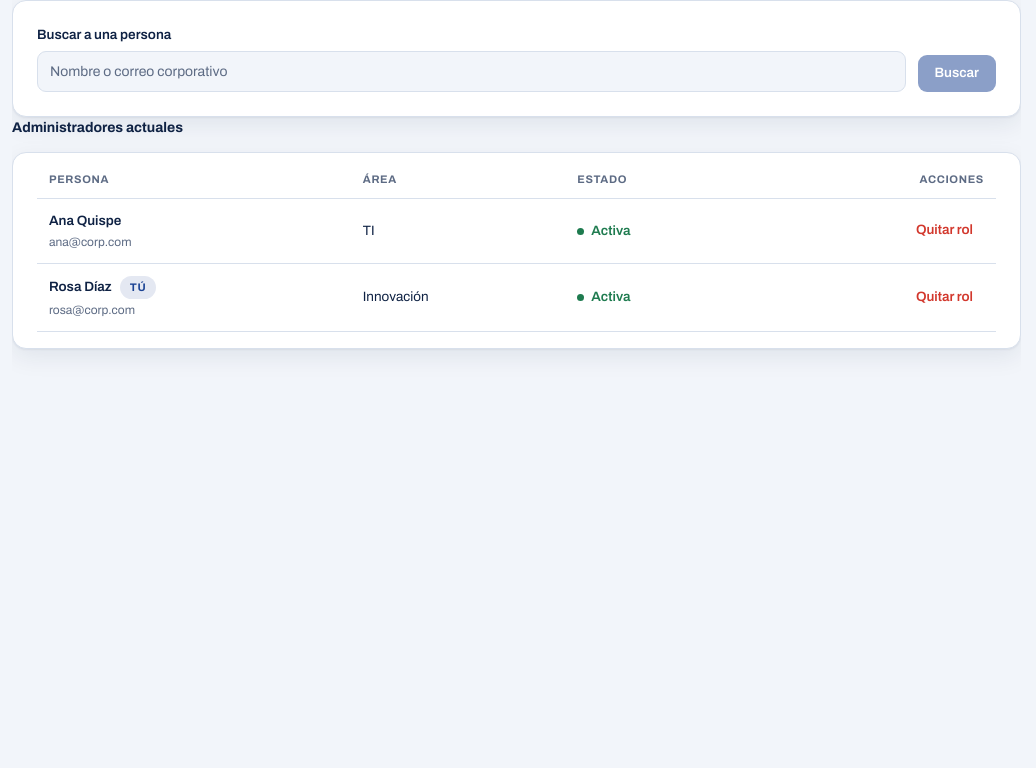
Scenario: <AdministradoresAdmin /> — la promoción › confirma con un toast y vuelve a leer la lista del servidor
Type "beto" into the field labelled "Buscar a una persona". click: (471, 72)
box: [37,51,906,92]
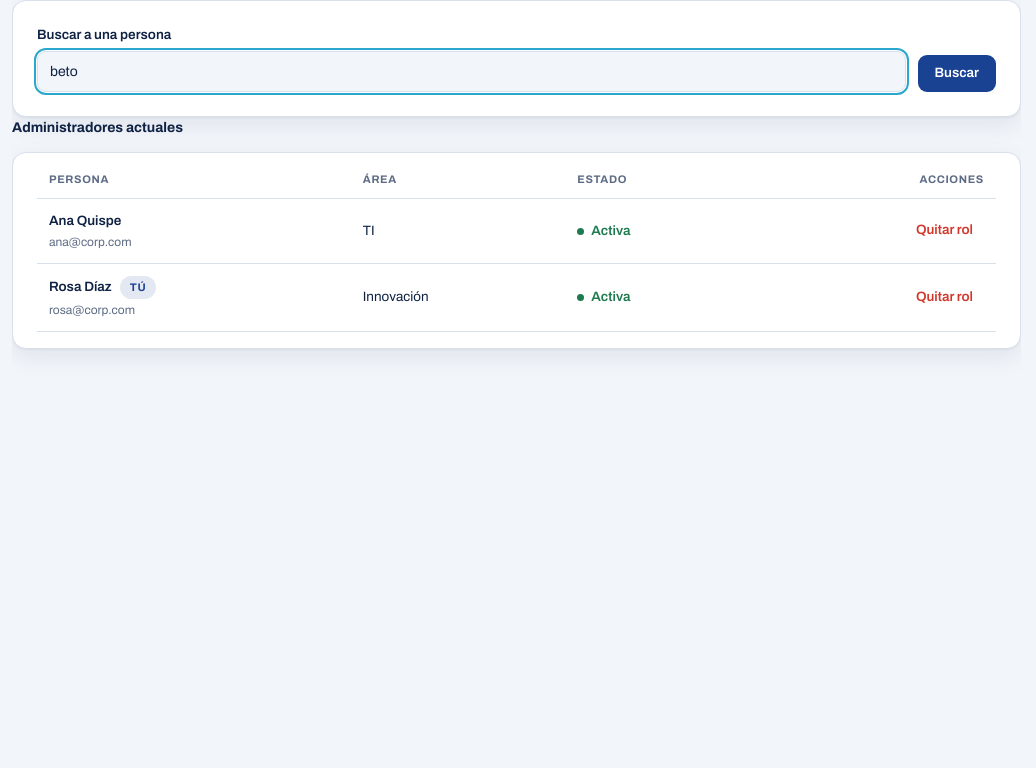
Click the button "Buscar". click: click(957, 74)
box: [918,55,996,92]
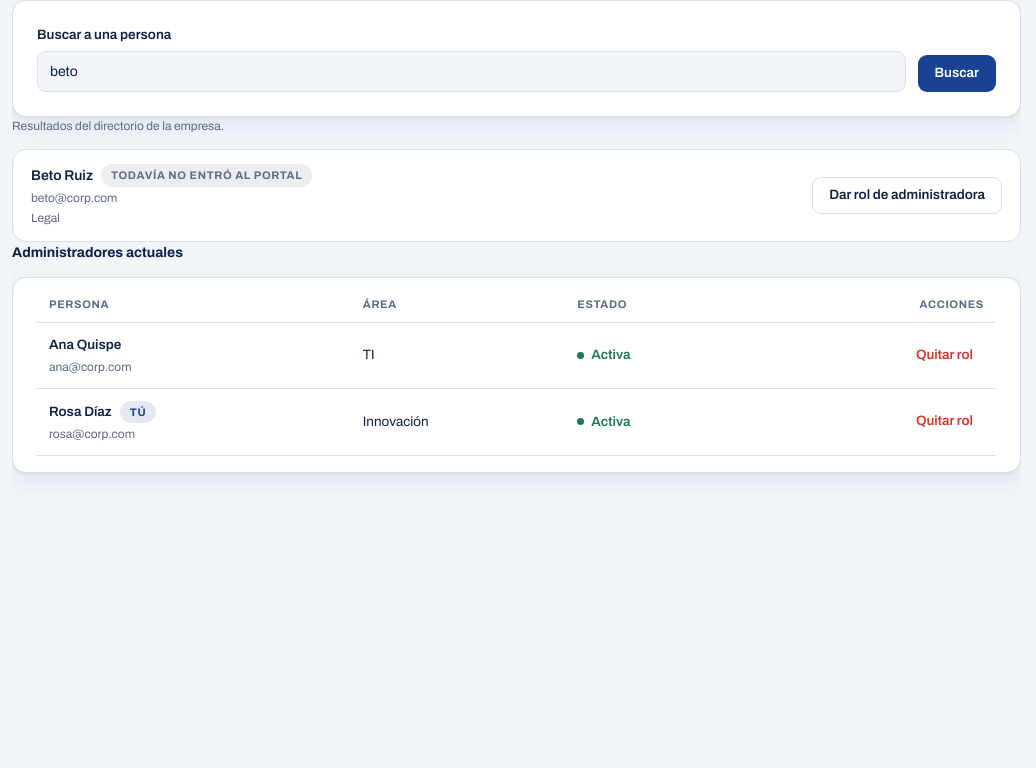
Click the button with aria-label "dar el rol de administradora a Beto". click: click(907, 196)
box: [812,177,1002,214]
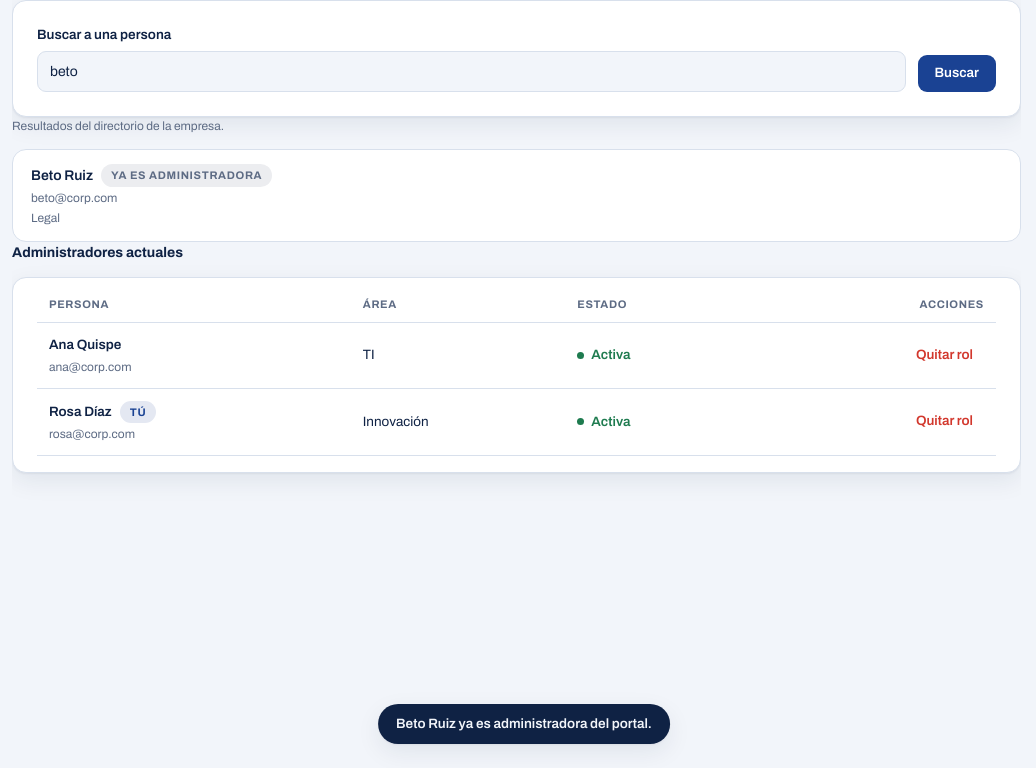
Expected: the text "Beto Ruiz ya es administradora del portal." is shown, [378,704,670,744]
